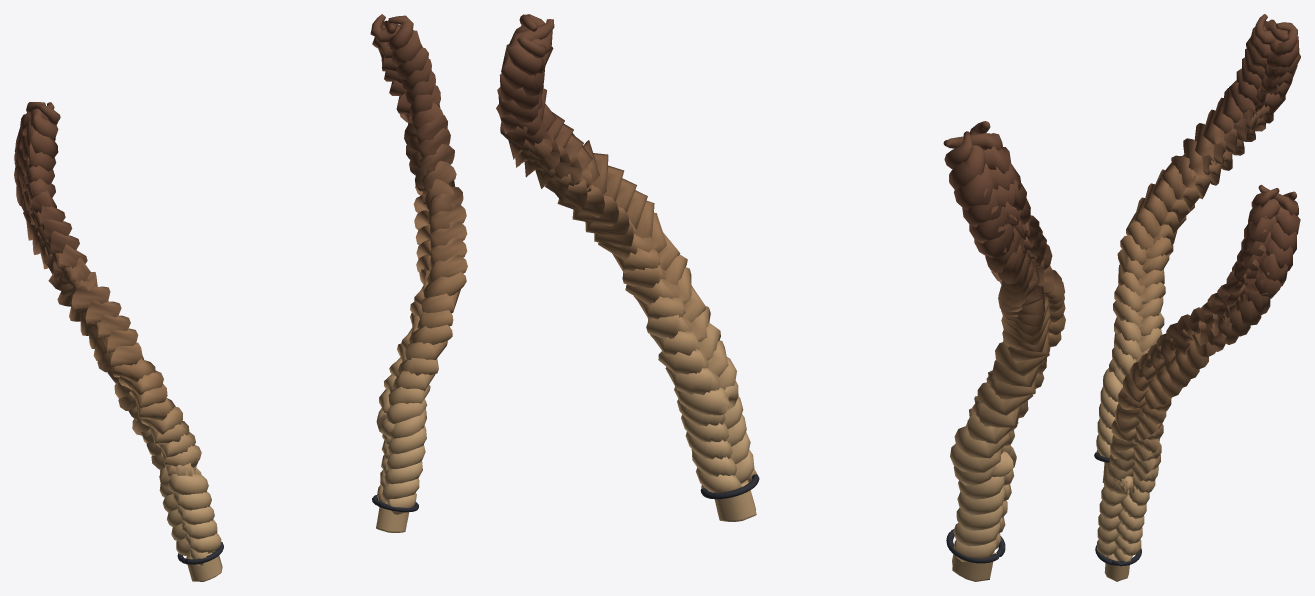
The model's file is Ombre-d348a3fe28a1253-hair.glb.
3 views of the same model, side by side, from view 1: azimuth 30°, elevation 25°; view 2: azimuth 150°, elevation 25°; view 3: azimuth 270°, elevation 25° (orthographic). The views are drawn at different scales.
Parts seen in each view (by area): view 1: 226 hairLengths / Hair / chestnut226, 226 hairLengths / Hair / ties226; view 2: 226 hairLengths / Hair / chestnut226, 226 hairLengths / Hair / ties226; view 3: 226 hairLengths / Hair / chestnut226, 226 hairLengths / Hair / ties226.
Boxes of the visible parts, x1,y1,x2,y2 form: 226 hairLengths / Hair / chestnut226: (14,14,467,581); 226 hairLengths / Hair / ties226: (177,495,418,564); 226 hairLengths / Hair / chestnut226: (496,14,1065,581); 226 hairLengths / Hair / ties226: (700,474,1005,563); 226 hairLengths / Hair / chestnut226: (1096,14,1300,581); 226 hairLengths / Hair / ties226: (1094,452,1141,566).
Bounding box in the file's own units: 1.03 × 1.06 × 0.4591.
Materials: 2 (1 with a texture image).
